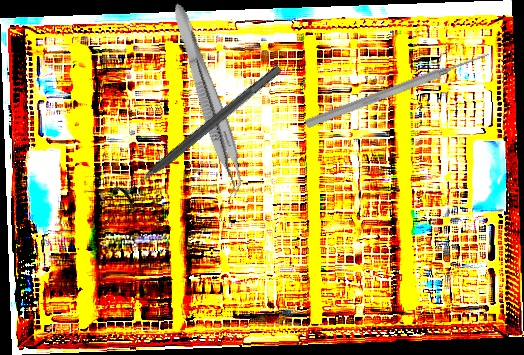Fixation Ring: (107, 55, 291, 216)
Pusher: (304, 48, 491, 131)
Tissue Forceps: (159, 0, 255, 202)
